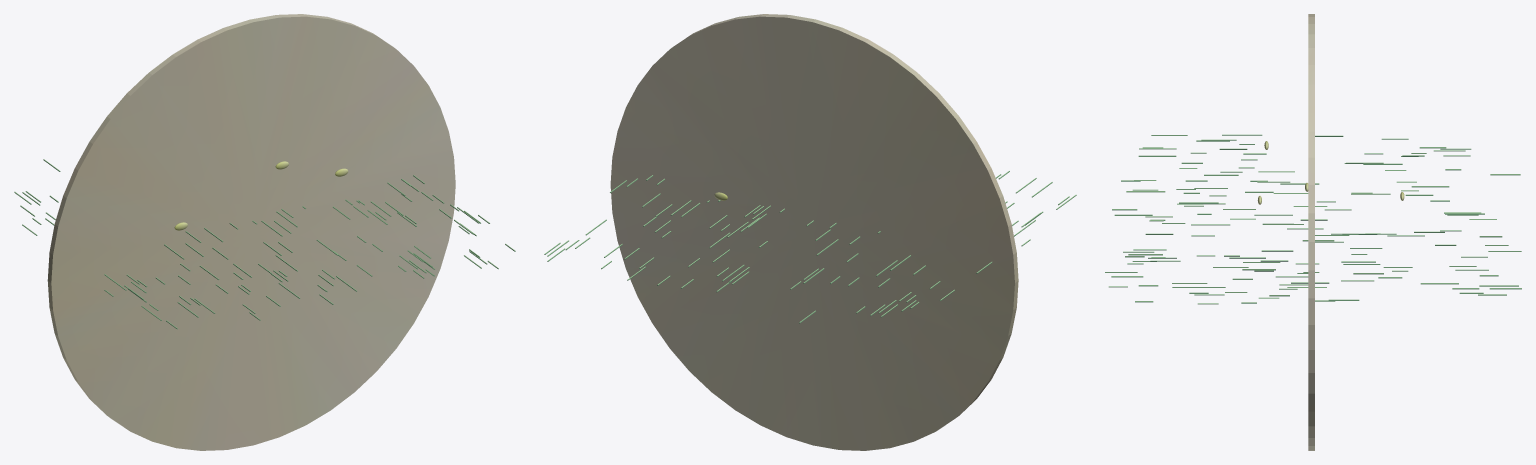
Rendered from seagrass-meadow.glb.
3 views of the same model, side by side, from view 1: azimuth 30°, elevation 25°; view 2: azimuth 150°, elevation 25°; view 3: azimuth 270°, elevation 25° (orthographic). The views are drawn at different scales.
Parts seen in each view (by area): view 1: seabed; view 2: seabed; view 3: seabed.
Boxes of the visible parts, left/top/right/bottom form: seabed: left=47, top=14, right=455, bottom=450; seabed: left=610, top=14, right=1018, bottom=450; seabed: left=1308, top=14, right=1314, bottom=450.
Size of the model in its own units: 13 by 13 by 12.39.
